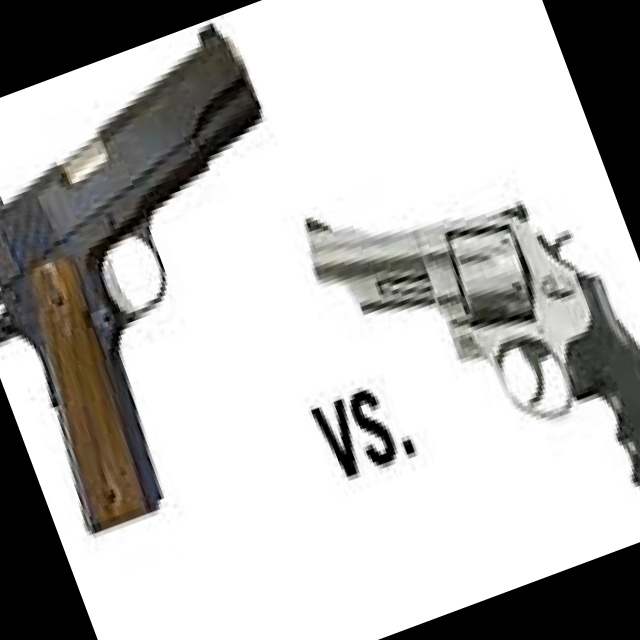gun: (0, 13, 396, 583), (279, 91, 640, 615)
